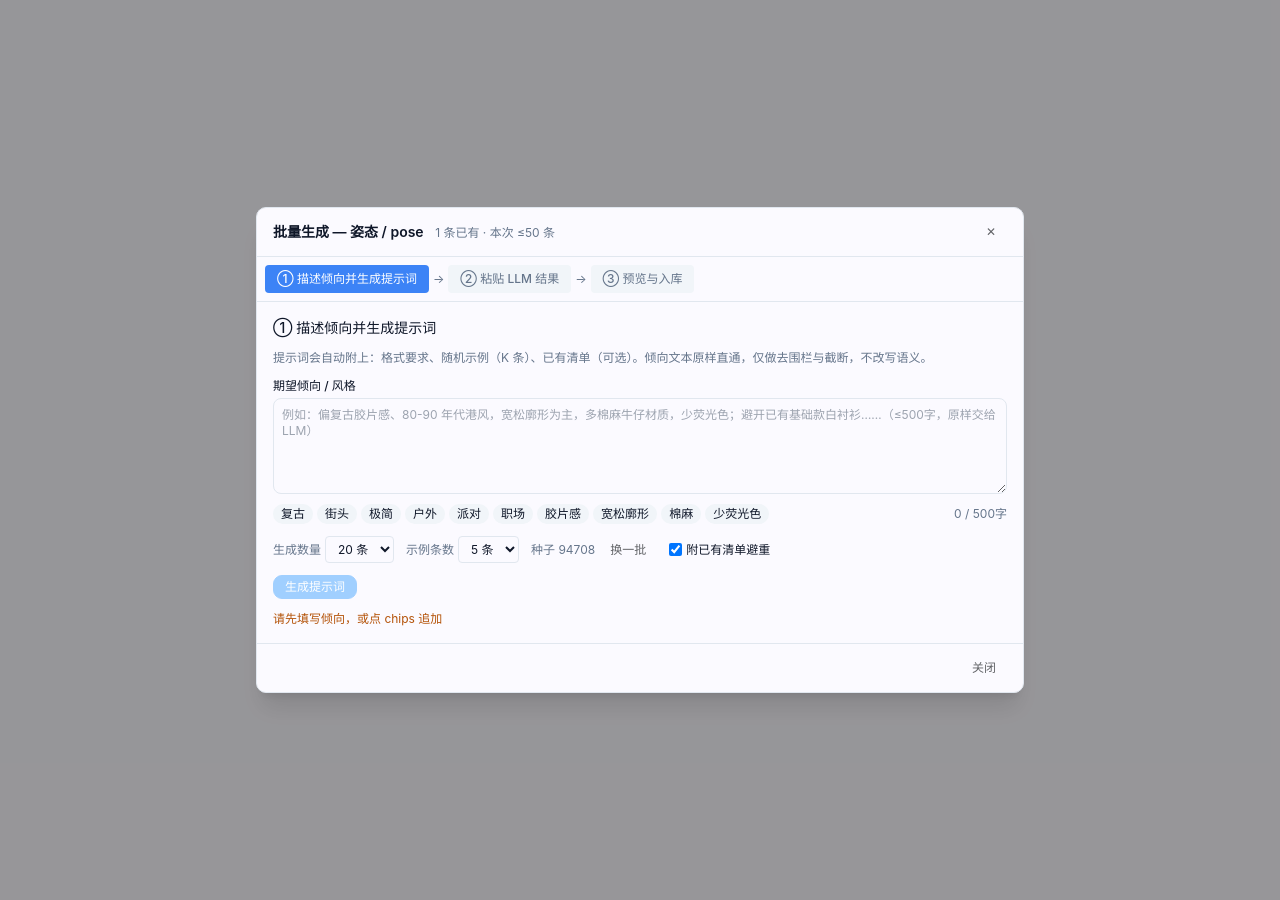
Test case: Need03 — 片段批量生成 › 4. 填写倾向后生成预览含 user_preference、维度 key、pmf-fragments 且不含 fence
The width and height of the screenshot is (1280, 900).
Replace the text in the text box with test id "generate-tendency" with "偏复古胶片感" at (640,446), box 273,398 -> 1007,494
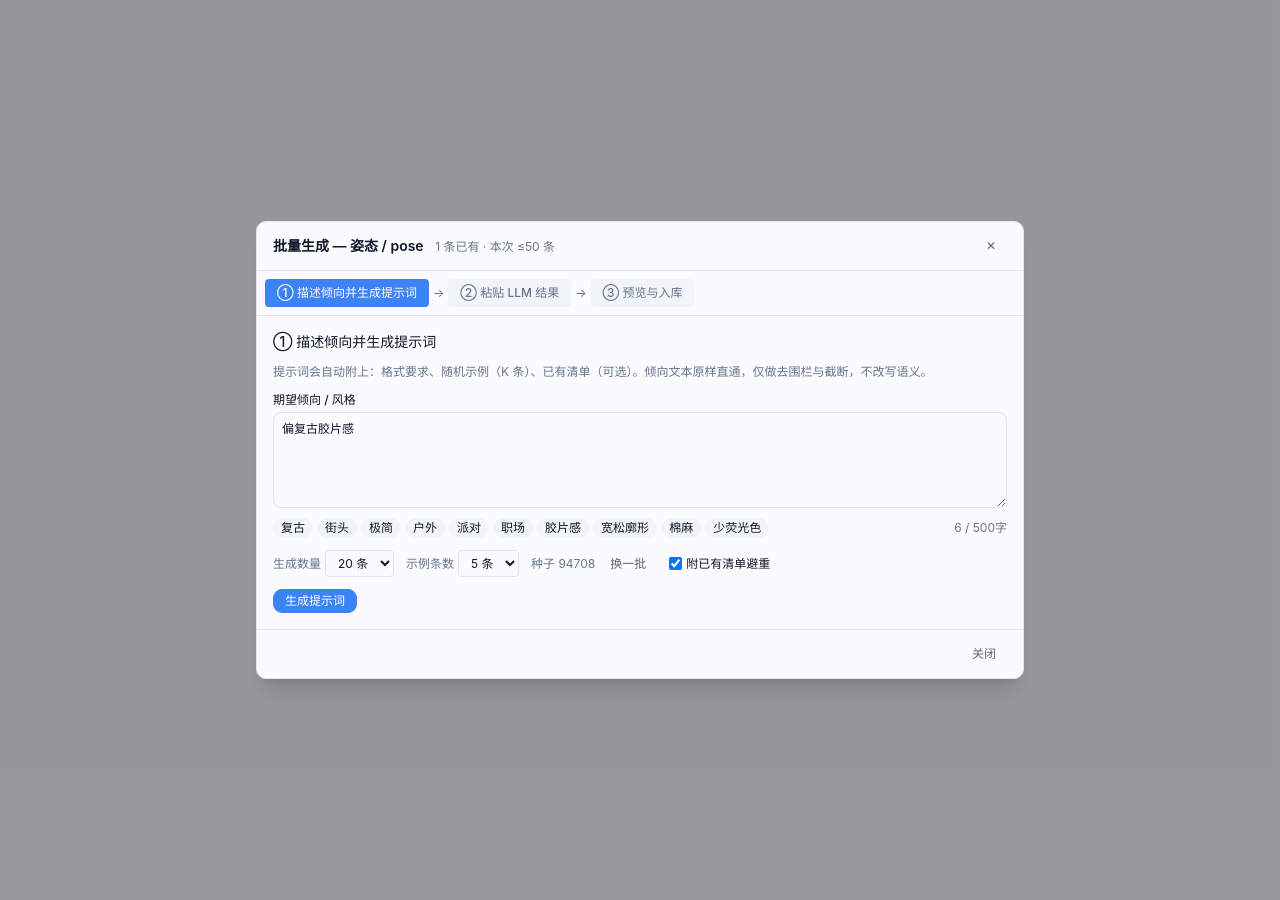
Click the button with test id "generate-build-btn".
click(315, 601)  # box 273,589 -> 357,613
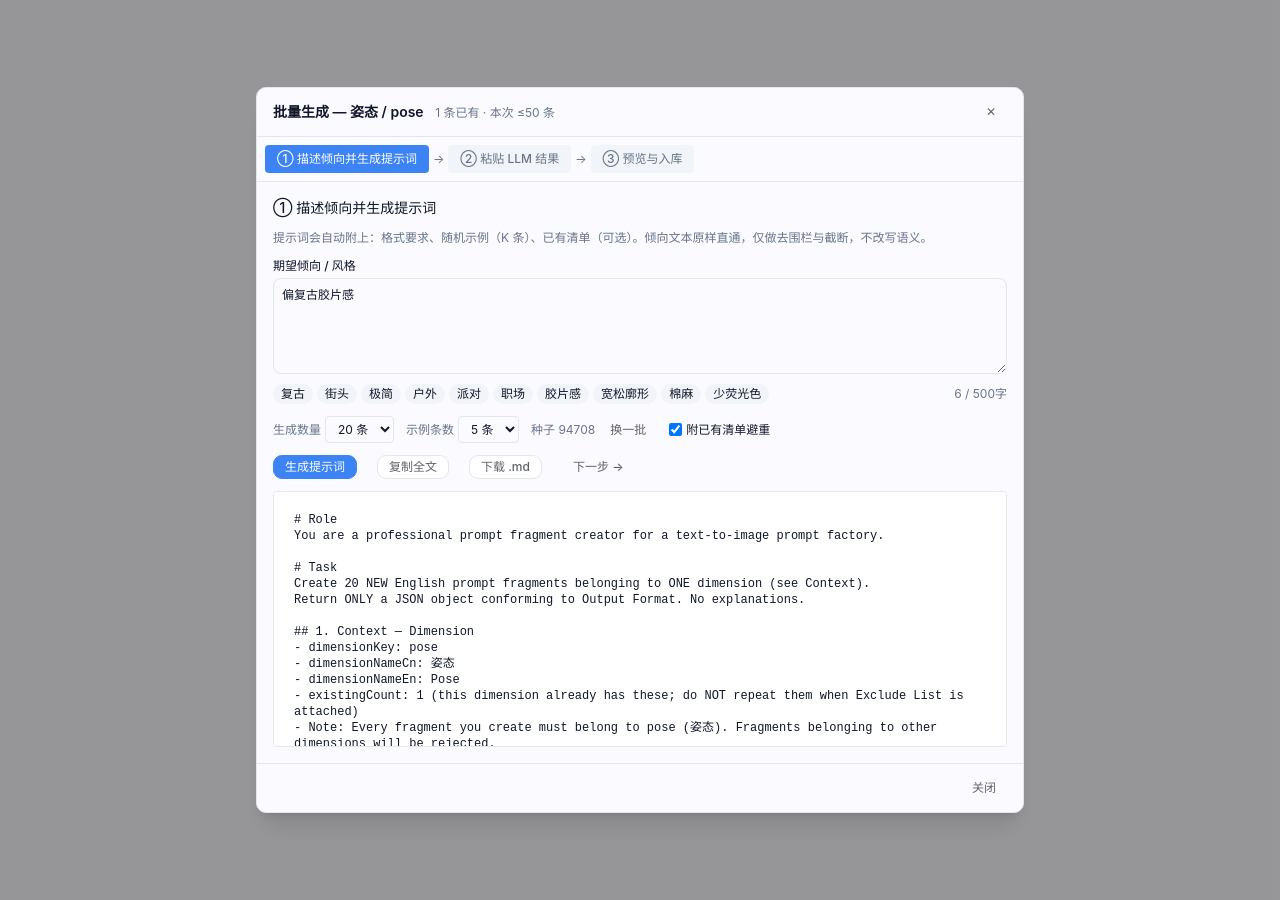
Check: the element with test id "generate-prompt-preview" is shown, box 273,491 -> 1007,747
